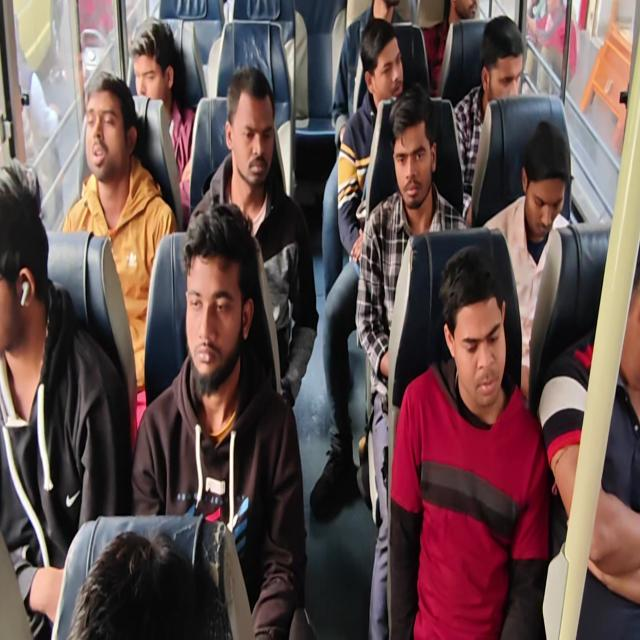person: (57, 525, 231, 640), (176, 191, 262, 396), (433, 236, 517, 411), (1, 143, 49, 366), (75, 66, 143, 210), (521, 106, 582, 262), (223, 61, 288, 202), (391, 86, 446, 213), (478, 12, 536, 121), (127, 9, 184, 108), (357, 13, 406, 128), (613, 219, 640, 380), (447, 0, 496, 58), (368, 0, 411, 42)
